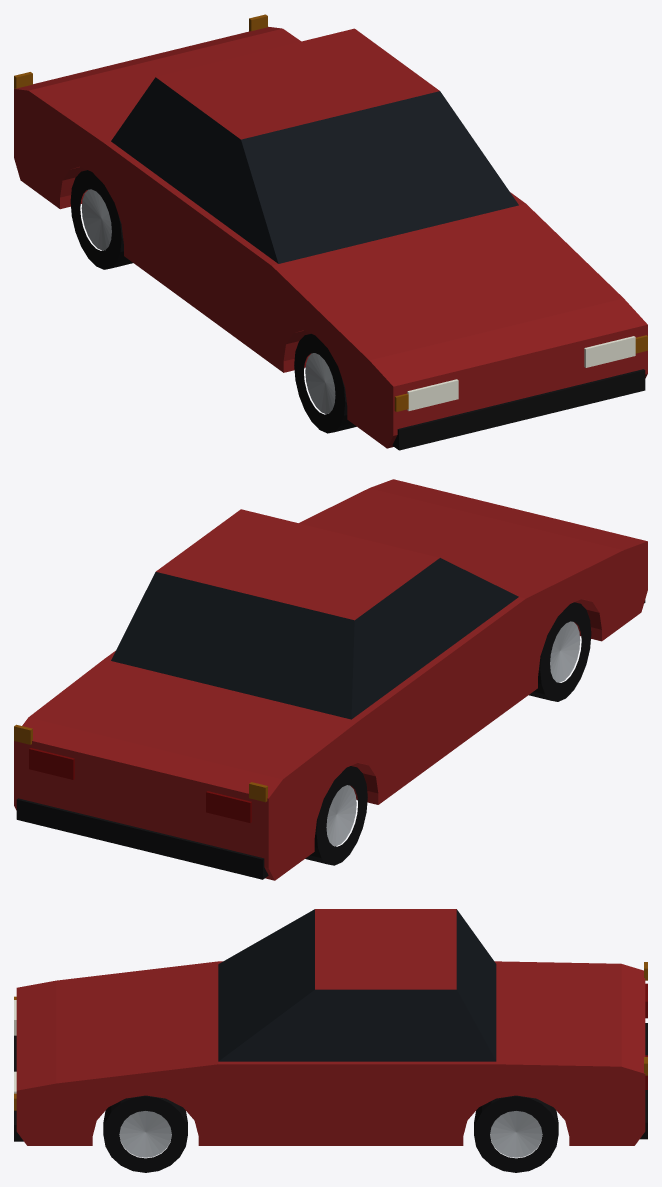
The model's file is body.glb.
3 renders of one model, top to bottom at view 1: azimuth 30°, elevation 25°; view 2: azimuth 150°, elevation 25°; view 3: azimuth 270°, elevation 25°, orthographic. The views are drawn at different scales.
Parts seen in each view (by area): view 1: shell, cabin, trim, wheel_RF, wheel_RR, headlight_L, headlight_R; view 2: shell, cabin, trim, wheel_RR, wheel_RF, taillight_L, taillight_R; view 3: shell, cabin, wheel_LF, wheel_LR, trim.
Boxes of the visible parts, <box> form: shell: <box>14,26,647,448</box>; cabin: <box>111,28,518,263</box>; trim: <box>392,369,645,450</box>; wheel_RF: <box>294,333,356,433</box>; wheel_RR: <box>70,170,132,269</box>; headlight_L: <box>584,336,635,367</box>; headlight_R: <box>407,379,458,410</box>; shell: <box>14,479,647,880</box>; cabin: <box>111,509,518,719</box>; trim: <box>16,600,645,879</box>; wheel_RR: <box>305,766,367,865</box>; wheel_RF: <box>529,602,591,701</box>; taillight_L: <box>29,748,74,779</box>; taillight_R: <box>206,791,251,823</box>; shell: <box>16,961,645,1145</box>; cabin: <box>218,909,496,1061</box>; wheel_LF: <box>103,1095,187,1172</box>; wheel_LR: <box>474,1095,558,1172</box>; trim: <box>14,1023,647,1141</box>.
Size of the model in its own units: 1.84 by 1.45 by 4.79.
